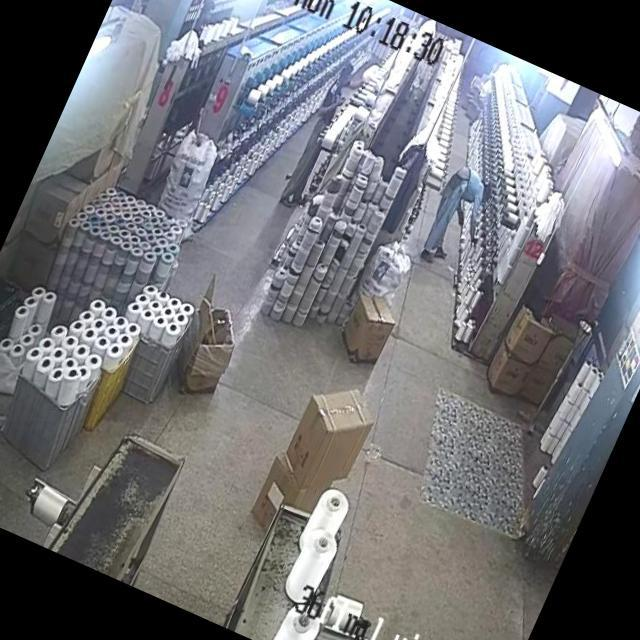person: (274, 58, 360, 214), (412, 150, 507, 282)
